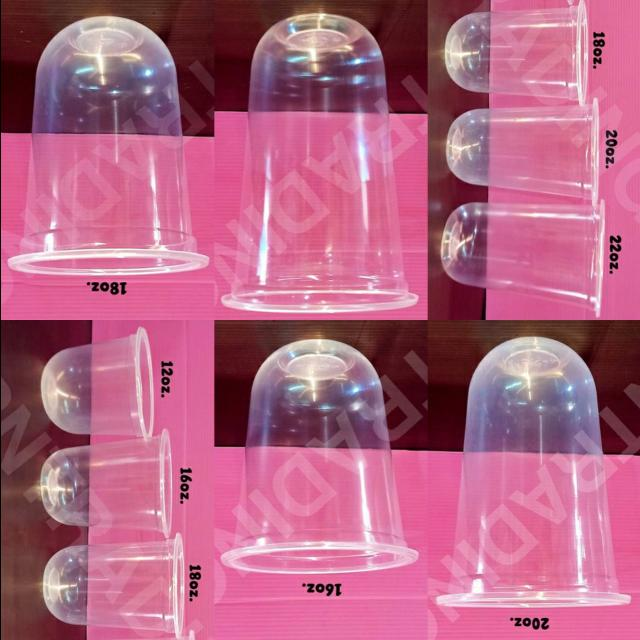plastik: (221, 14, 416, 313), (435, 337, 629, 607), (8, 16, 208, 275), (221, 339, 418, 574), (441, 201, 604, 316), (445, 99, 598, 203), (444, 0, 588, 105), (41, 534, 184, 638), (39, 430, 171, 537), (41, 328, 152, 438)
